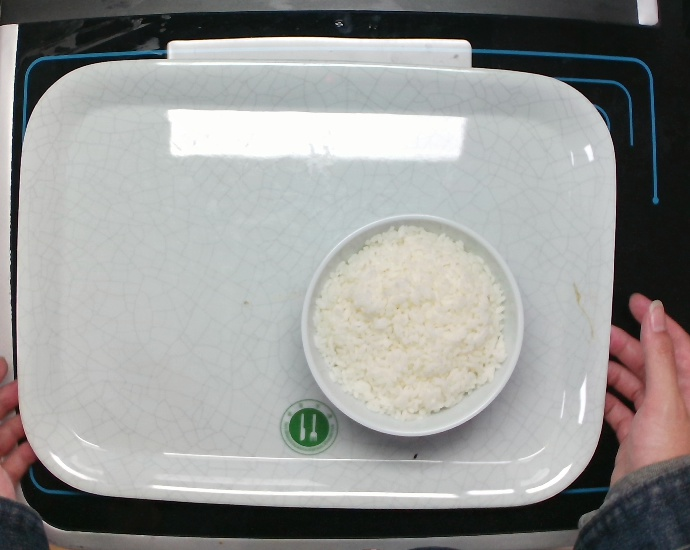JYsf-Fan_Wan: (299, 212, 525, 438)
